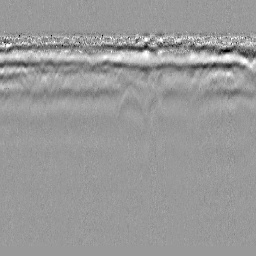cavity: (116, 84, 145, 119)
